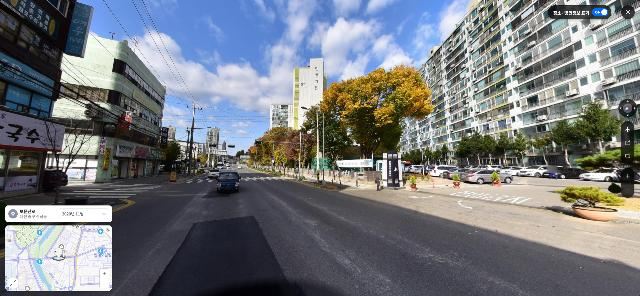ginkgo: (317, 62, 434, 171)
other: (38, 103, 115, 204), (300, 106, 349, 170), (577, 96, 621, 152), (550, 114, 586, 165), (575, 147, 639, 172), (456, 130, 496, 166), (259, 127, 287, 168), (275, 131, 303, 169), (496, 131, 520, 166), (159, 140, 183, 172), (519, 132, 541, 166), (537, 131, 556, 165), (271, 140, 287, 175), (407, 148, 424, 166), (423, 148, 440, 165), (438, 145, 451, 165)
